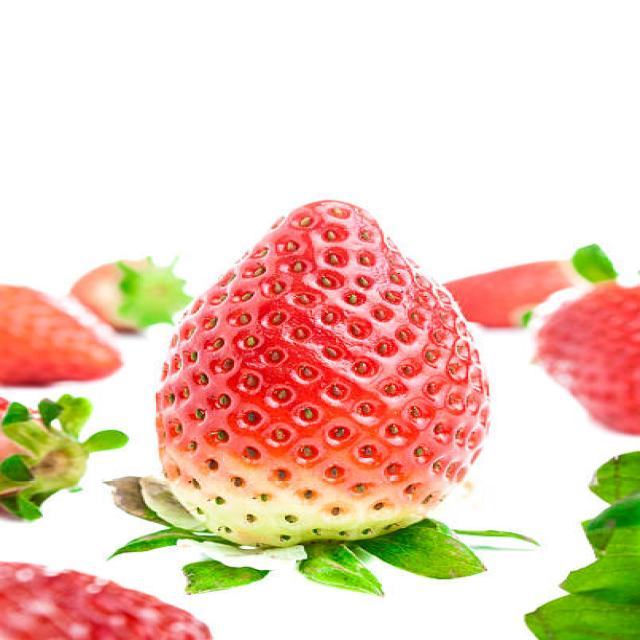Healthy Fruit: (154, 198, 490, 543)
